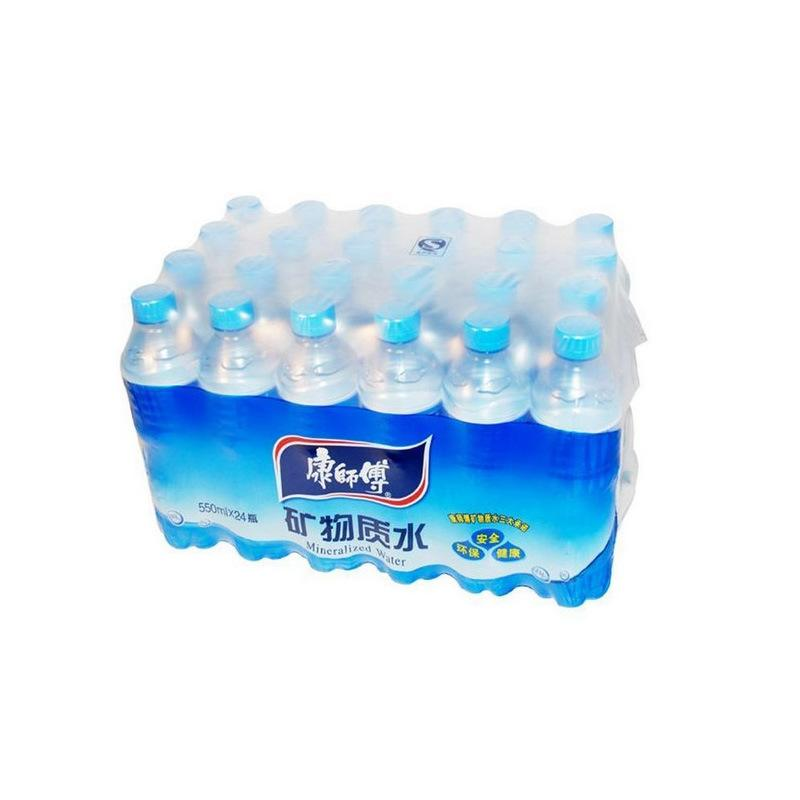amwater: (95, 188, 674, 655)
